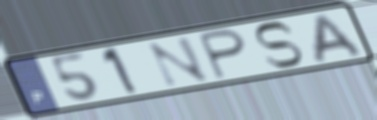1: (99, 44, 141, 98)
5: (46, 50, 102, 105)
A: (312, 11, 368, 65)
N: (144, 34, 214, 89)
P: (195, 27, 249, 82)
S: (251, 19, 306, 69)
